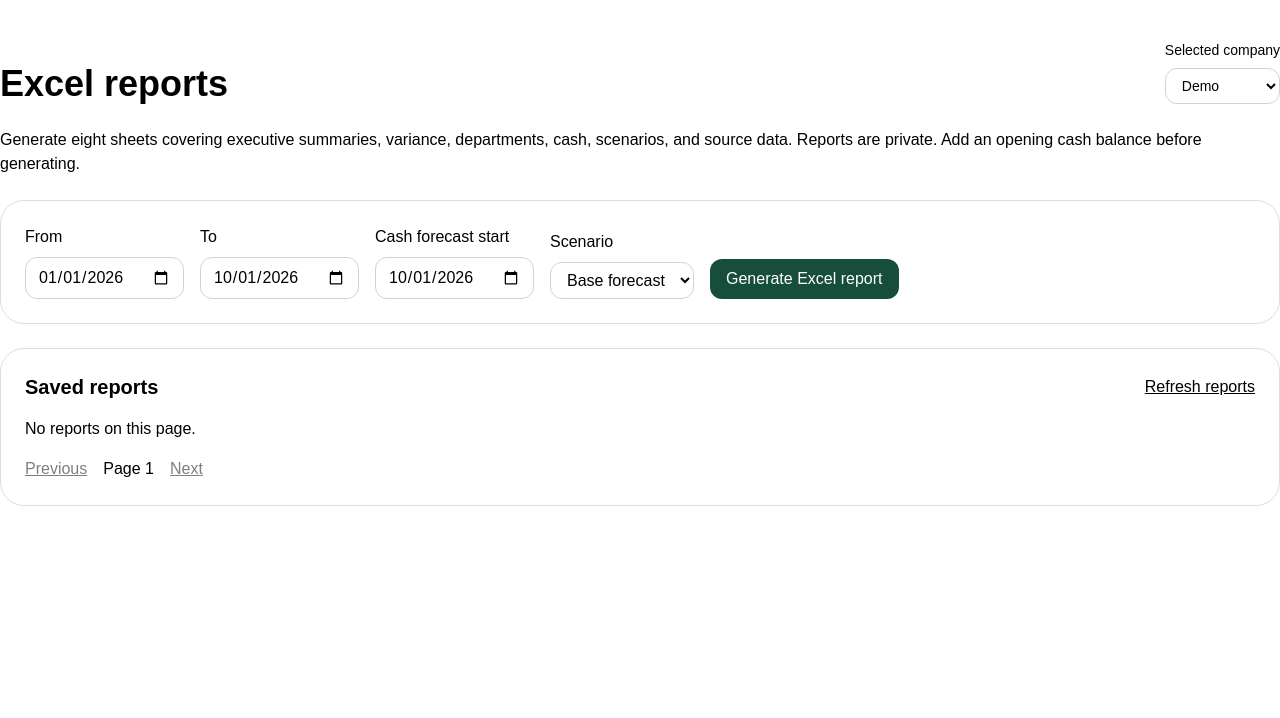
Test: report generation, refreshed signed download, and confirmed deletion
Expected: the text "No reports on this page." is shown, [25, 420, 196, 437]
Submit the form named "Report settings", box [0, 200, 1279, 324]
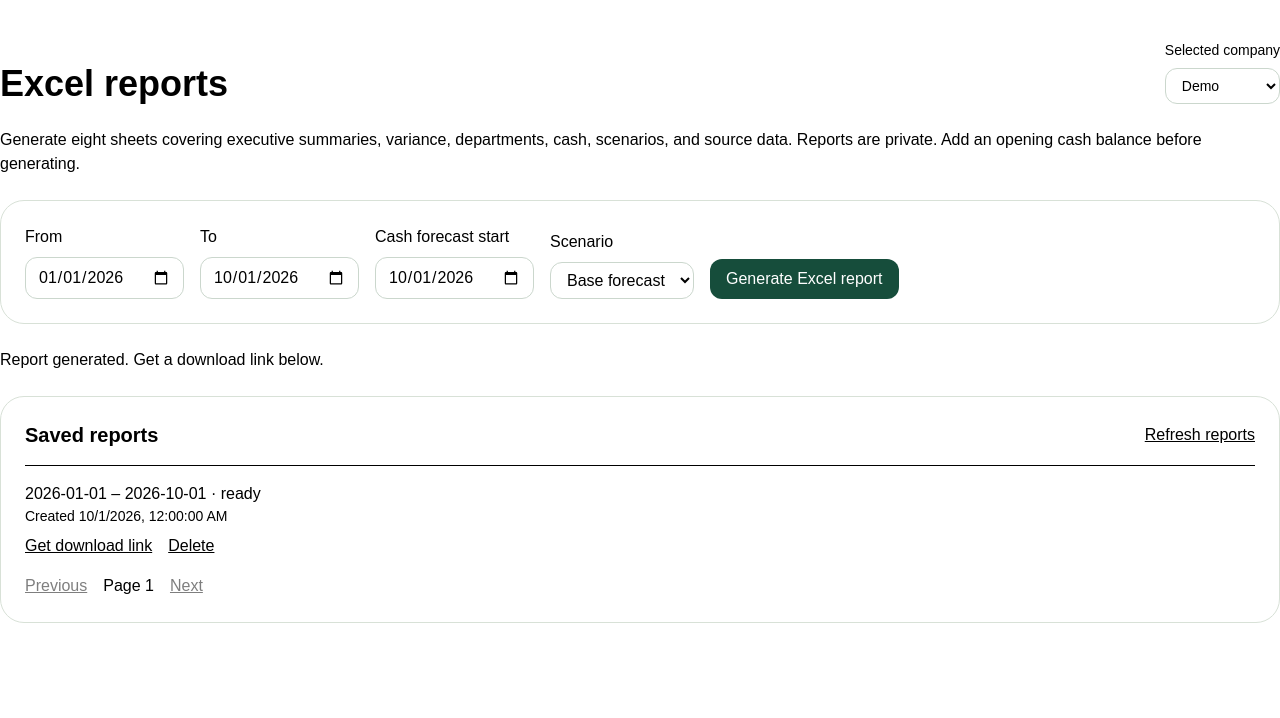
Click the button "Get download link" at [89, 546], box [25, 534, 152, 558]
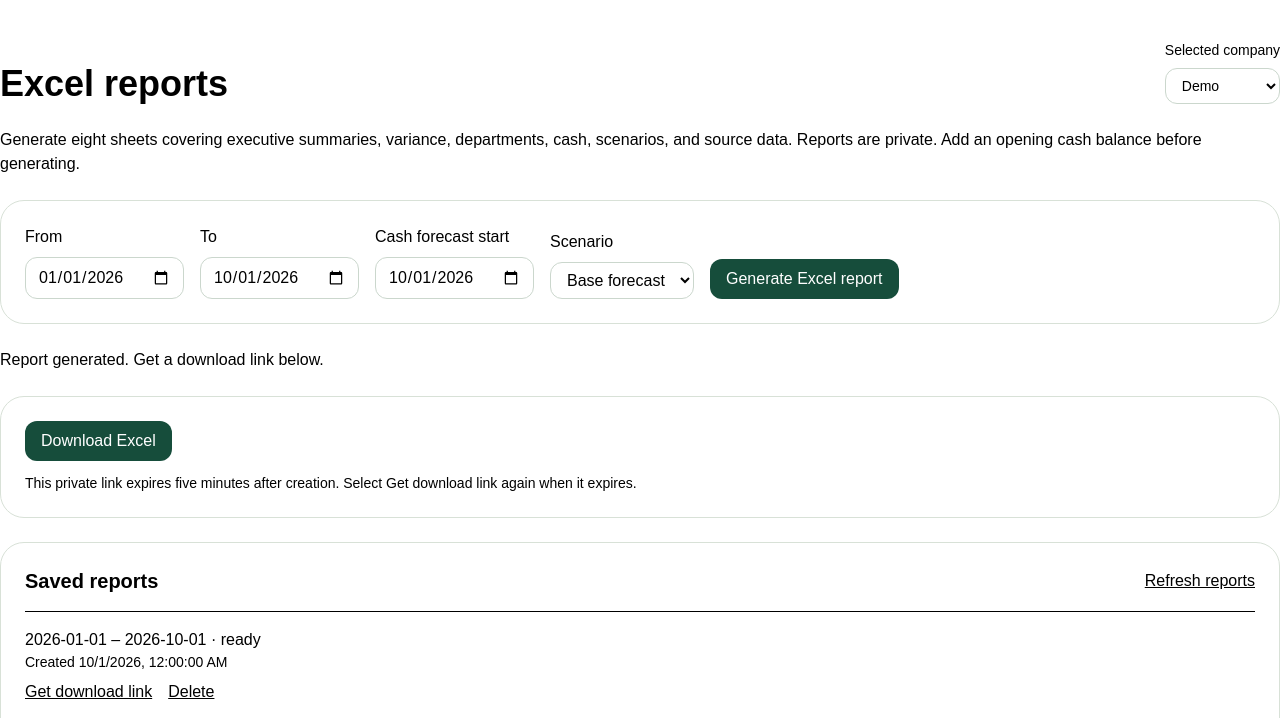
Expected: the text "expires five minutes" is shown, [25, 475, 637, 491]
Click the button "Delete" at [191, 692], box [168, 680, 214, 704]
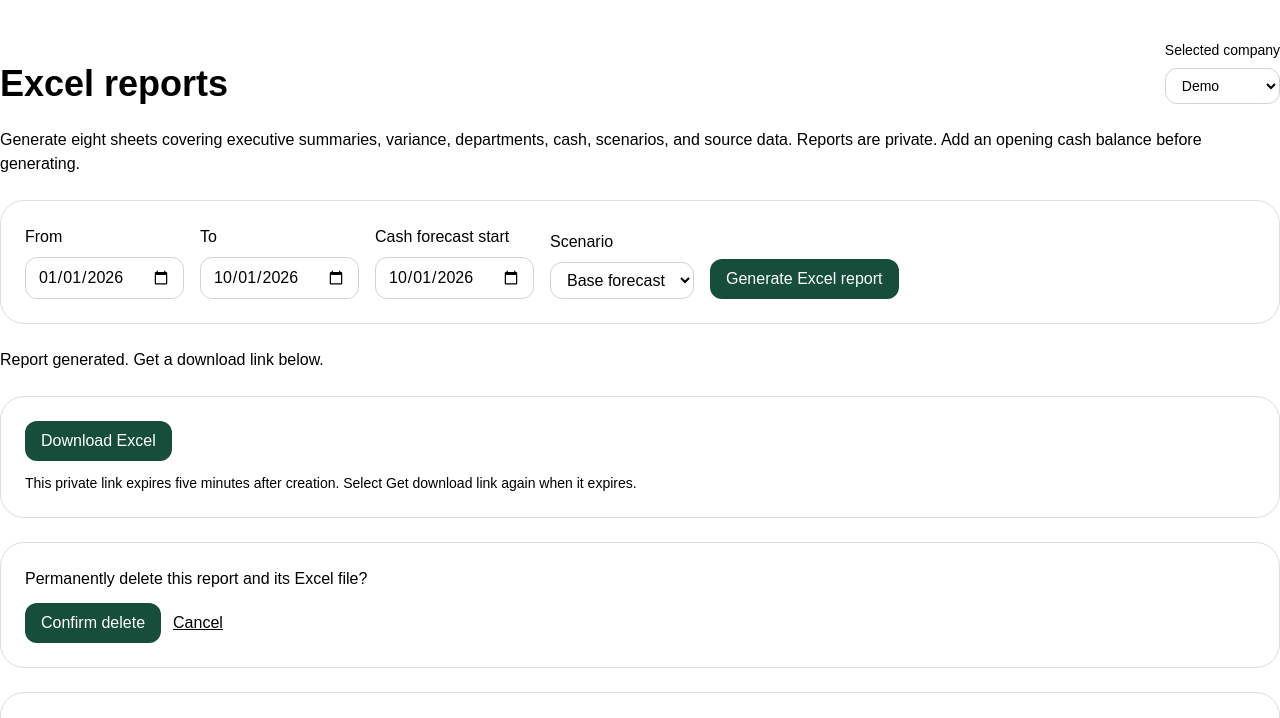
Click the button "Confirm delete" at [93, 623], box [25, 603, 161, 643]
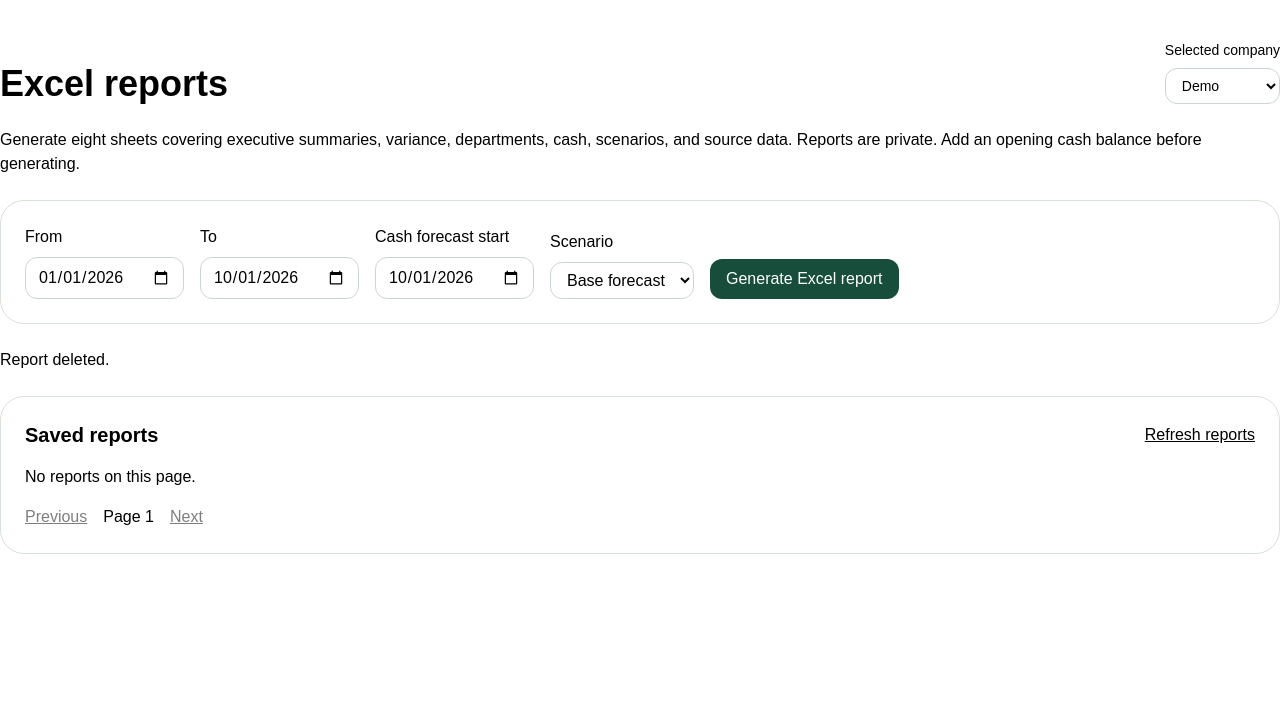
Expected: the text "Report deleted." is shown, [0, 351, 109, 368]
